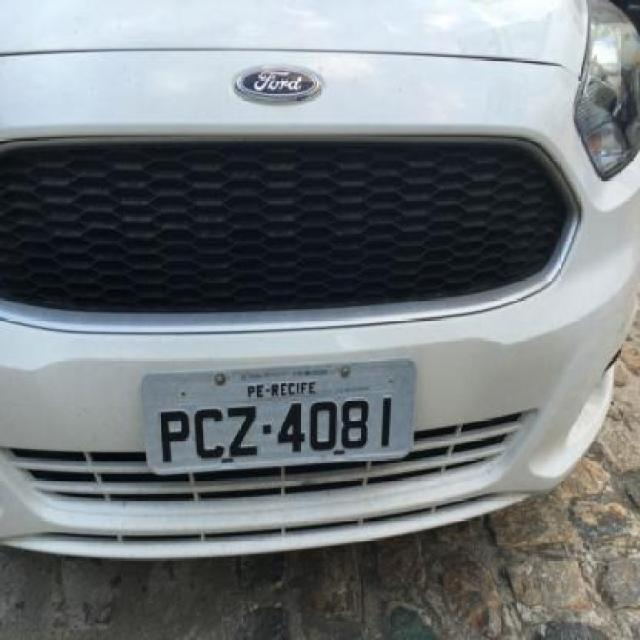old_plate: (135, 353, 422, 484)
